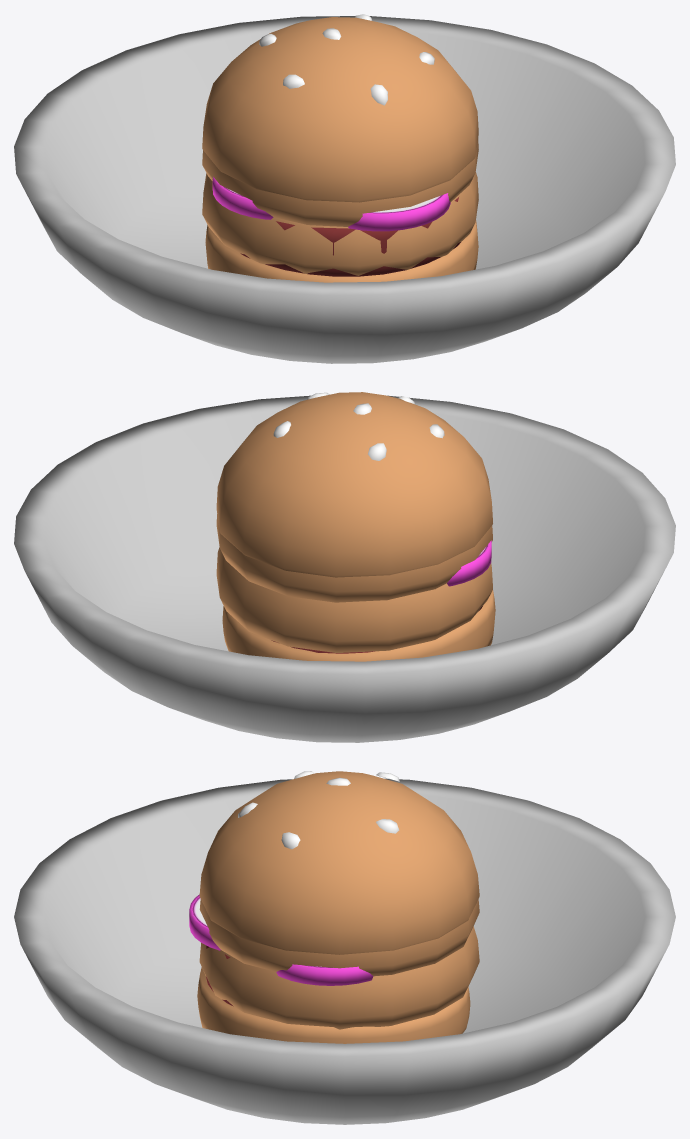
The model's file is BurgerPlate.fbx.
3 views of the same model, one above another, from view 1: azimuth 30°, elevation 25°; view 2: azimuth 150°, elevation 25°; view 3: azimuth 270°, elevation 25° (orthographic).
Visible parts, largest first — view 1: Plate, BurgerwithOnion, BurgerBread, Burger; view 2: Plate, BurgerwithOnion, BurgerBread, Burger; view 3: Plate, BurgerwithOnion, BurgerBread, Burger.
Part boxes in pixels (box(x1,y1,x2,y2)): Plate: box(14, 16, 675, 363); BurgerwithOnion: box(202, 14, 478, 231); BurgerBread: box(202, 172, 478, 275); Burger: box(202, 138, 478, 282); Plate: box(14, 395, 675, 742); BurgerwithOnion: box(216, 392, 492, 586); BurgerBread: box(216, 547, 492, 652); Burger: box(216, 514, 495, 661); Plate: box(14, 778, 675, 1124); BurgerwithOnion: box(189, 771, 479, 985); BurgerBread: box(199, 926, 479, 1029); Burger: box(197, 899, 479, 1043).
Size of the model in its own units: 31.83 by 13.22 by 31.83.
